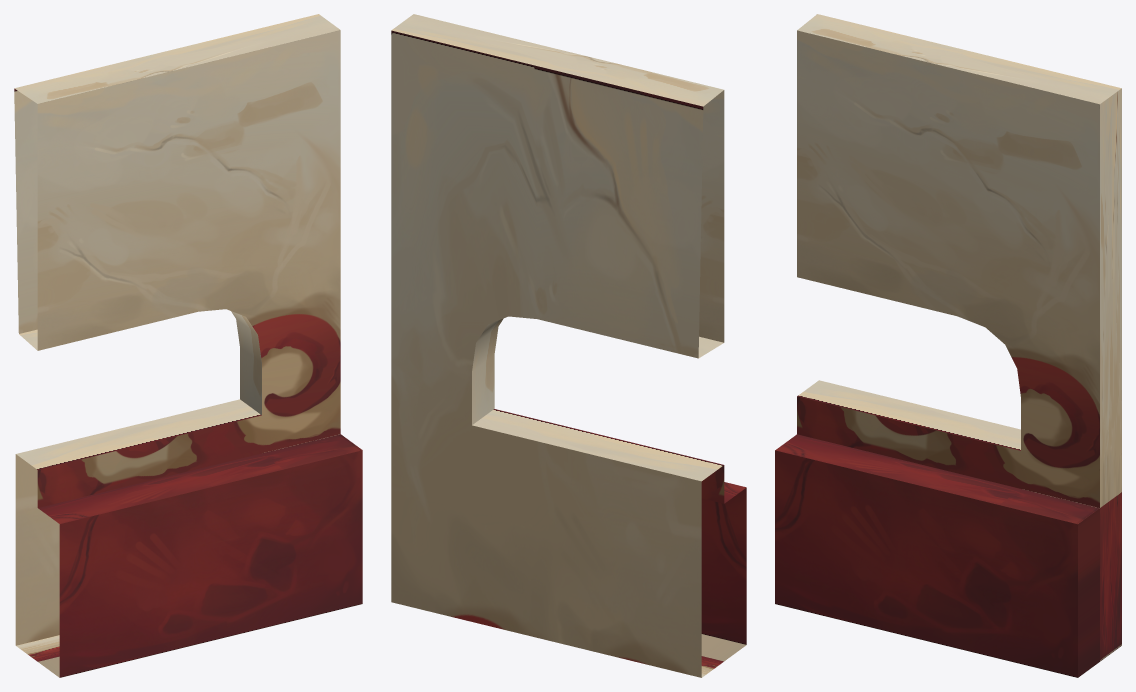
File: Modulaire_FenetreGrande2.fbx
The picture shows the model from 3 angles, left to right: view 1: azimuth 30°, elevation 25°; view 2: azimuth 150°, elevation 25°; view 3: azimuth 330°, elevation 25°; orthographic projection. The views are drawn at different scales.
Parts seen in each view (by area): view 1: Box005; view 2: Box005; view 3: Box005.
Part boxes in pixels (<box>): Box005: <box>14,14,362,677</box>; Box005: <box>391,14,746,677</box>; Box005: <box>775,14,1121,677</box>.
Bounding box in the file's own units: 1 × 1.75 × 0.25.
